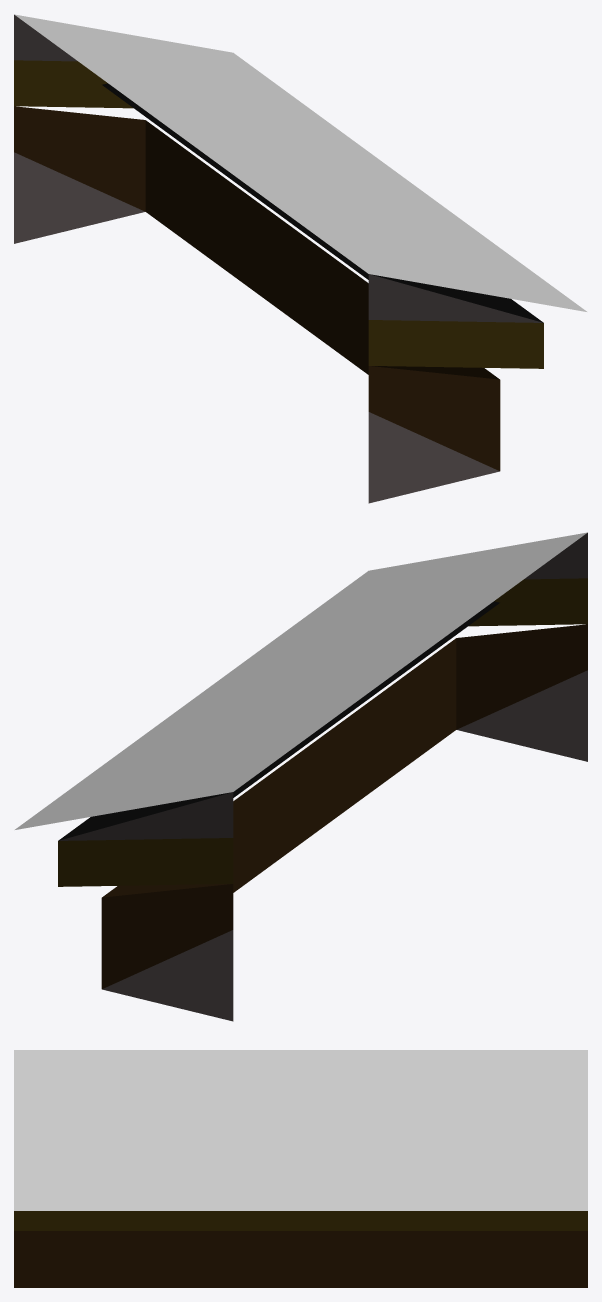
Rendered from model_loc_1635_z.obj.
3 renders of one model, top to bottom at view 1: azimuth 30°, elevation 25°; view 2: azimuth 150°, elevation 25°; view 3: azimuth 270°, elevation 25°, orthographic. The views are drawn at different scales.
Parts seen in each view (by area): view 1: 595; view 2: 595; view 3: 595.
Boxes of the visible parts, box(x1,y1,x2,y2) form: 595: box(14, 14, 586, 503); 595: box(15, 532, 587, 1021); 595: box(14, 1050, 587, 1287).
Bounding box in the file's own units: 40 × 40 × 112.
